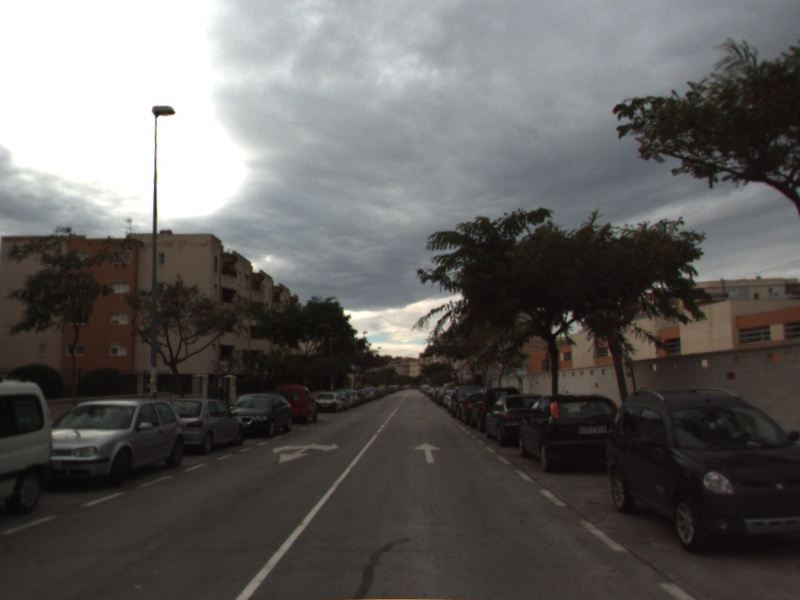STRAIGHT: (412, 440, 444, 465)
